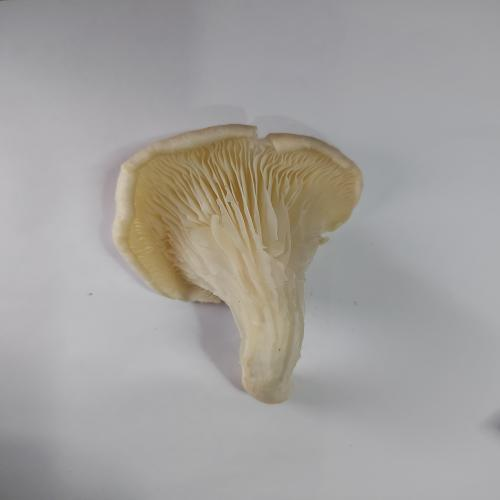Oyster Mushroom: (111, 123, 364, 404)
